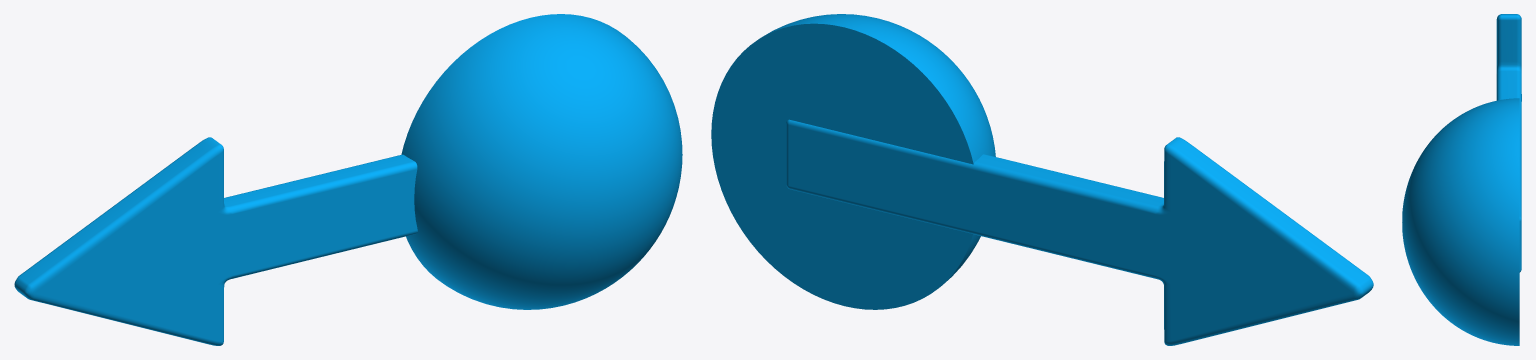
The model's file is spinnerUntextured.fbx.
The picture shows the model from 3 angles, left to right: view 1: azimuth 30°, elevation 25°; view 2: azimuth 150°, elevation 25°; view 3: azimuth 270°, elevation 25°; orthographic projection. The views are drawn at different scales.
Visible parts, largest first — view 1: root, node_id30; view 2: node_id30, root; view 3: root, node_id30.
Part boxes in pixels (box(x1,y1,x2,y2)): root: box(401, 14, 682, 309); node_id30: box(14, 137, 417, 345); node_id30: box(786, 119, 1373, 345); root: box(711, 14, 995, 309); root: box(1402, 98, 1519, 345); node_id30: box(1496, 14, 1521, 272).
Bounding box in the file's own units: 0.5774 × 0.2364 × 0.1142.
2 materials, 2 textured.
